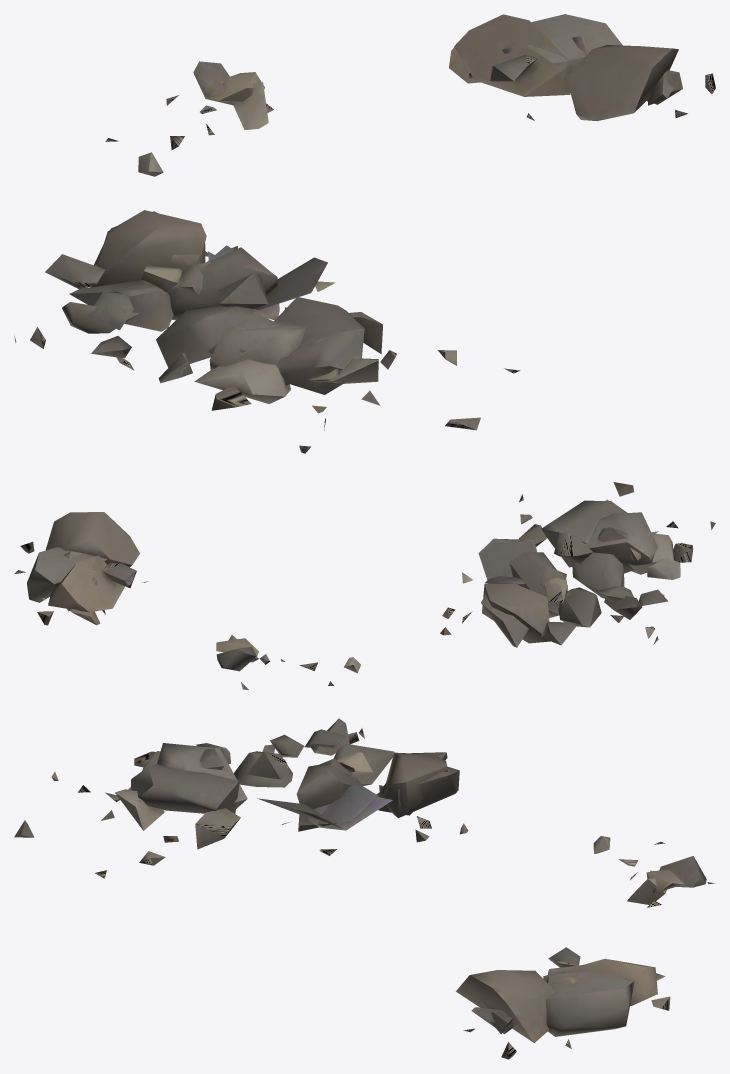
Rendered from rough-cave-1.low.glb.
3 views of the same model, one above another, from view 1: azimuth 30°, elevation 25°; view 2: azimuth 150°, elevation 25°; view 3: azimuth 270°, elevation 25° (orthographic). The views are drawn at different scales.
Parts seen in each view (by area): view 1: rough-cave-1; view 2: rough-cave-1; view 3: rough-cave-1.
Part boxes in pixels (left/top/right/bottom): rough-cave-1: left=14, top=14, right=715, bottom=453; rough-cave-1: left=14, top=482, right=715, bottom=689; rough-cave-1: left=14, top=718, right=715, bottom=1059.
Size of the model in its own units: 1.87 by 0.1829 by 1.72.
Materials: 1 (1 with a texture image).
